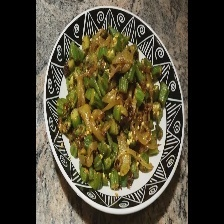sabzi: (51, 23, 172, 197)
